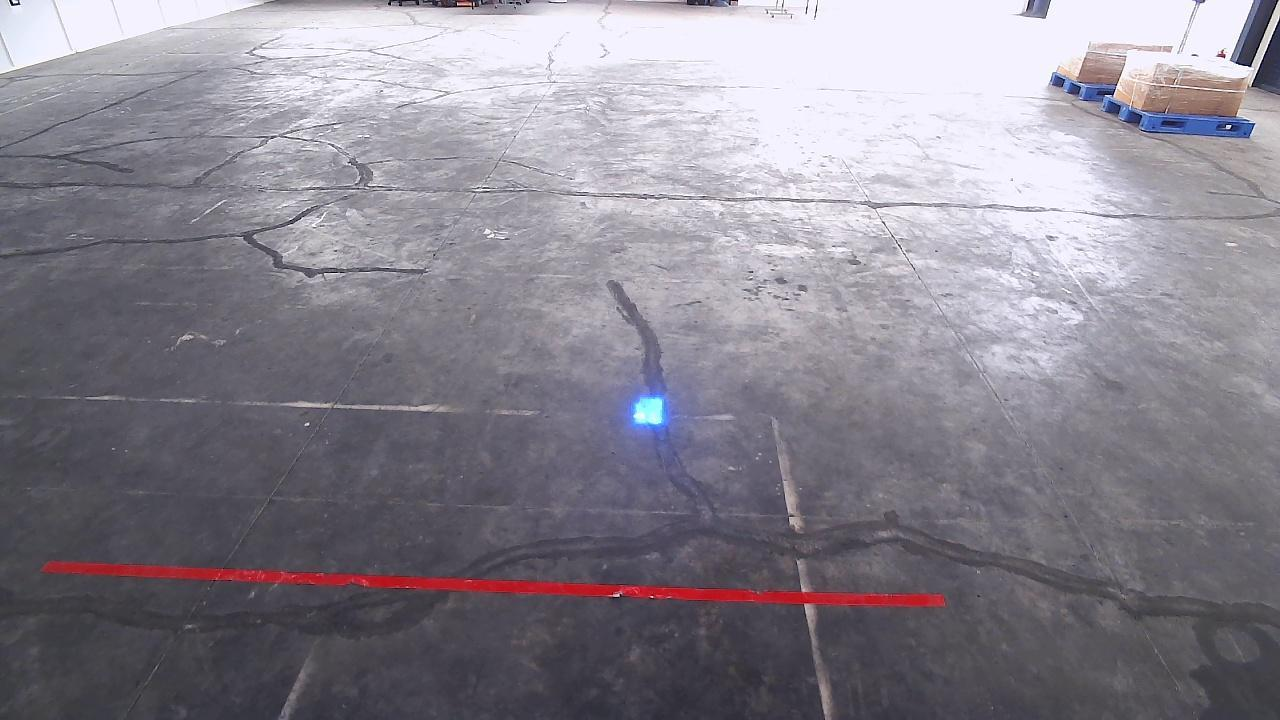red_line: (39, 558, 947, 606)
